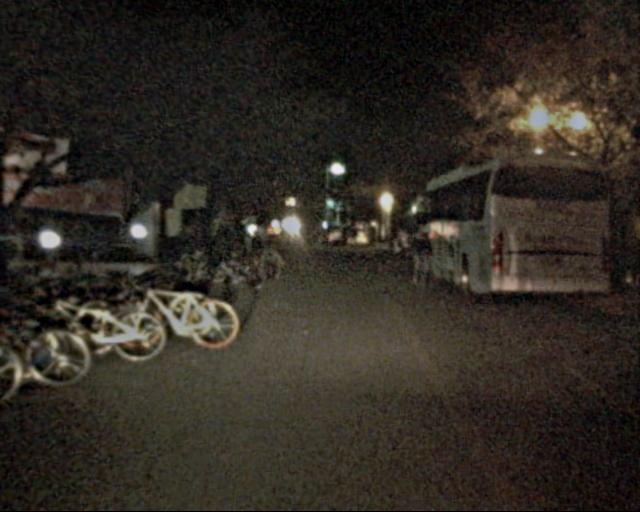person: (409, 220, 439, 294), (251, 217, 274, 265), (348, 227, 359, 253)
